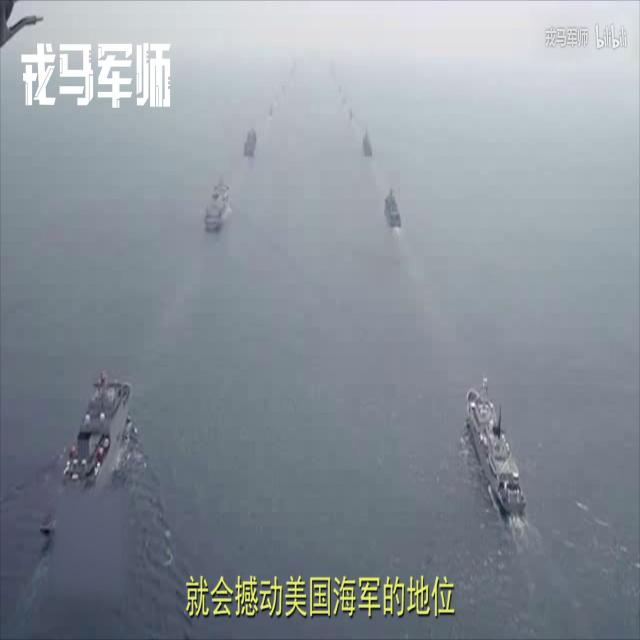navalvessels: (38, 370, 131, 538), (464, 374, 526, 521), (203, 178, 229, 230), (384, 188, 401, 231), (243, 124, 258, 160), (363, 130, 374, 162)
